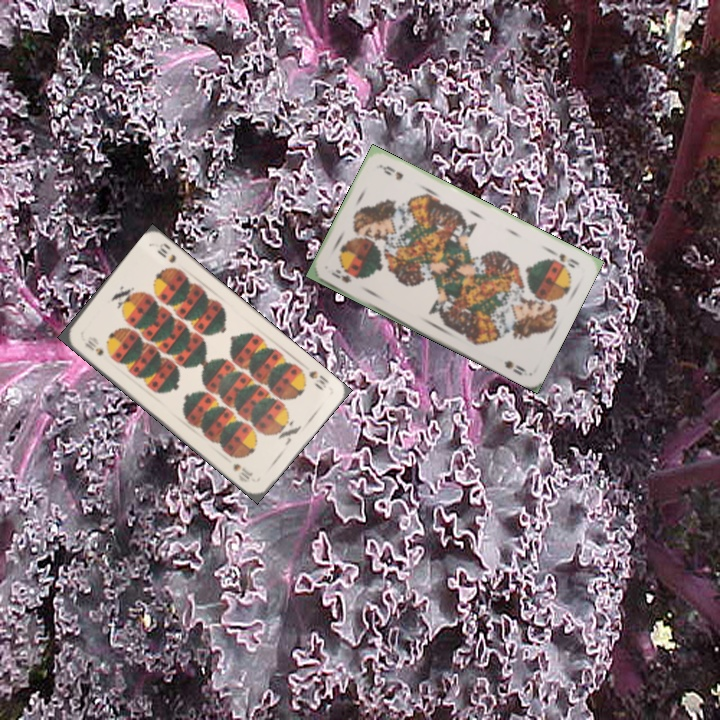S10: (304, 366, 331, 393), (81, 336, 106, 359)
SO: (545, 246, 582, 271), (327, 265, 354, 286)
